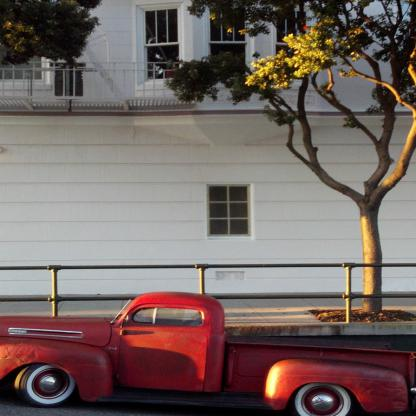Car: (0, 289, 416, 416)
Truck: (0, 290, 371, 410)
